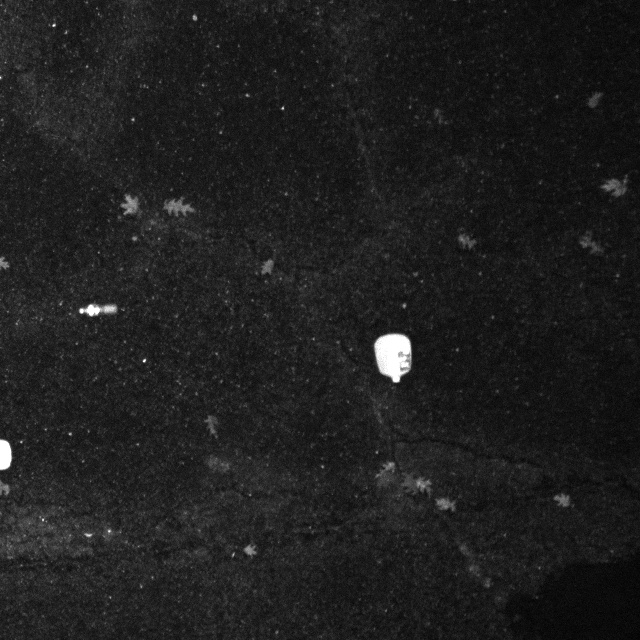bottle: (367, 321, 419, 393), (76, 293, 123, 321)
